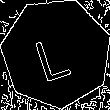L_N: (34, 24, 79, 82)
